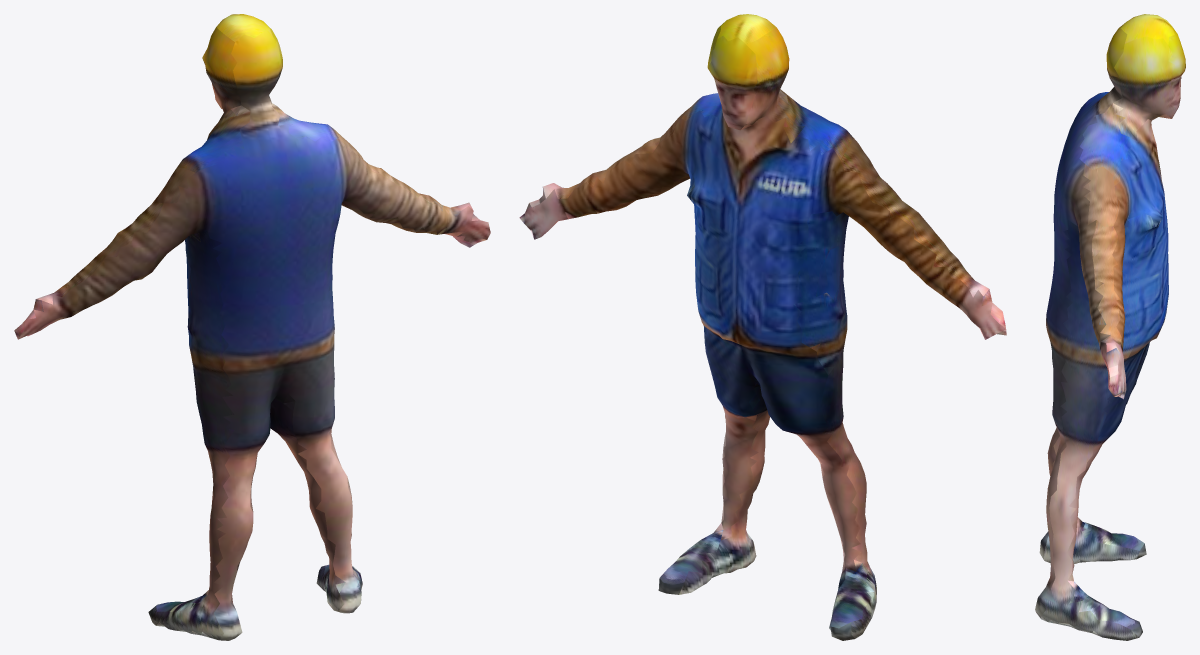
The picture shows the model from 3 angles, left to right: view 1: azimuth 30°, elevation 25°; view 2: azimuth 150°, elevation 25°; view 3: azimuth 270°, elevation 25°; orthographic projection. The views are drawn at different scales.
Visible parts, largest first — view 1: world; view 2: world; view 3: world.
Part boxes in pixels (x1,y1,x2,y2): world: (14, 14, 490, 640); world: (519, 14, 1006, 640); world: (1035, 14, 1185, 640).
Bounding box in the file's own units: 0.8543 × 1 × 0.236.
1 material, 1 textured.
